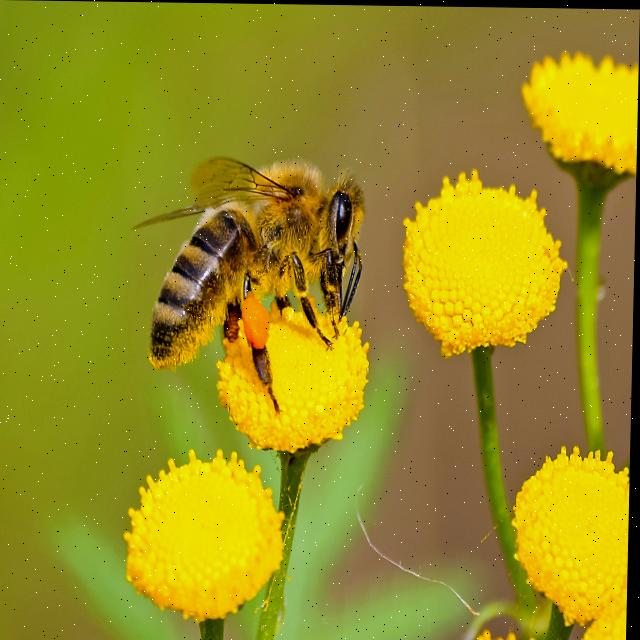Apis-mellifera-scutellata: (121, 139, 395, 410)
